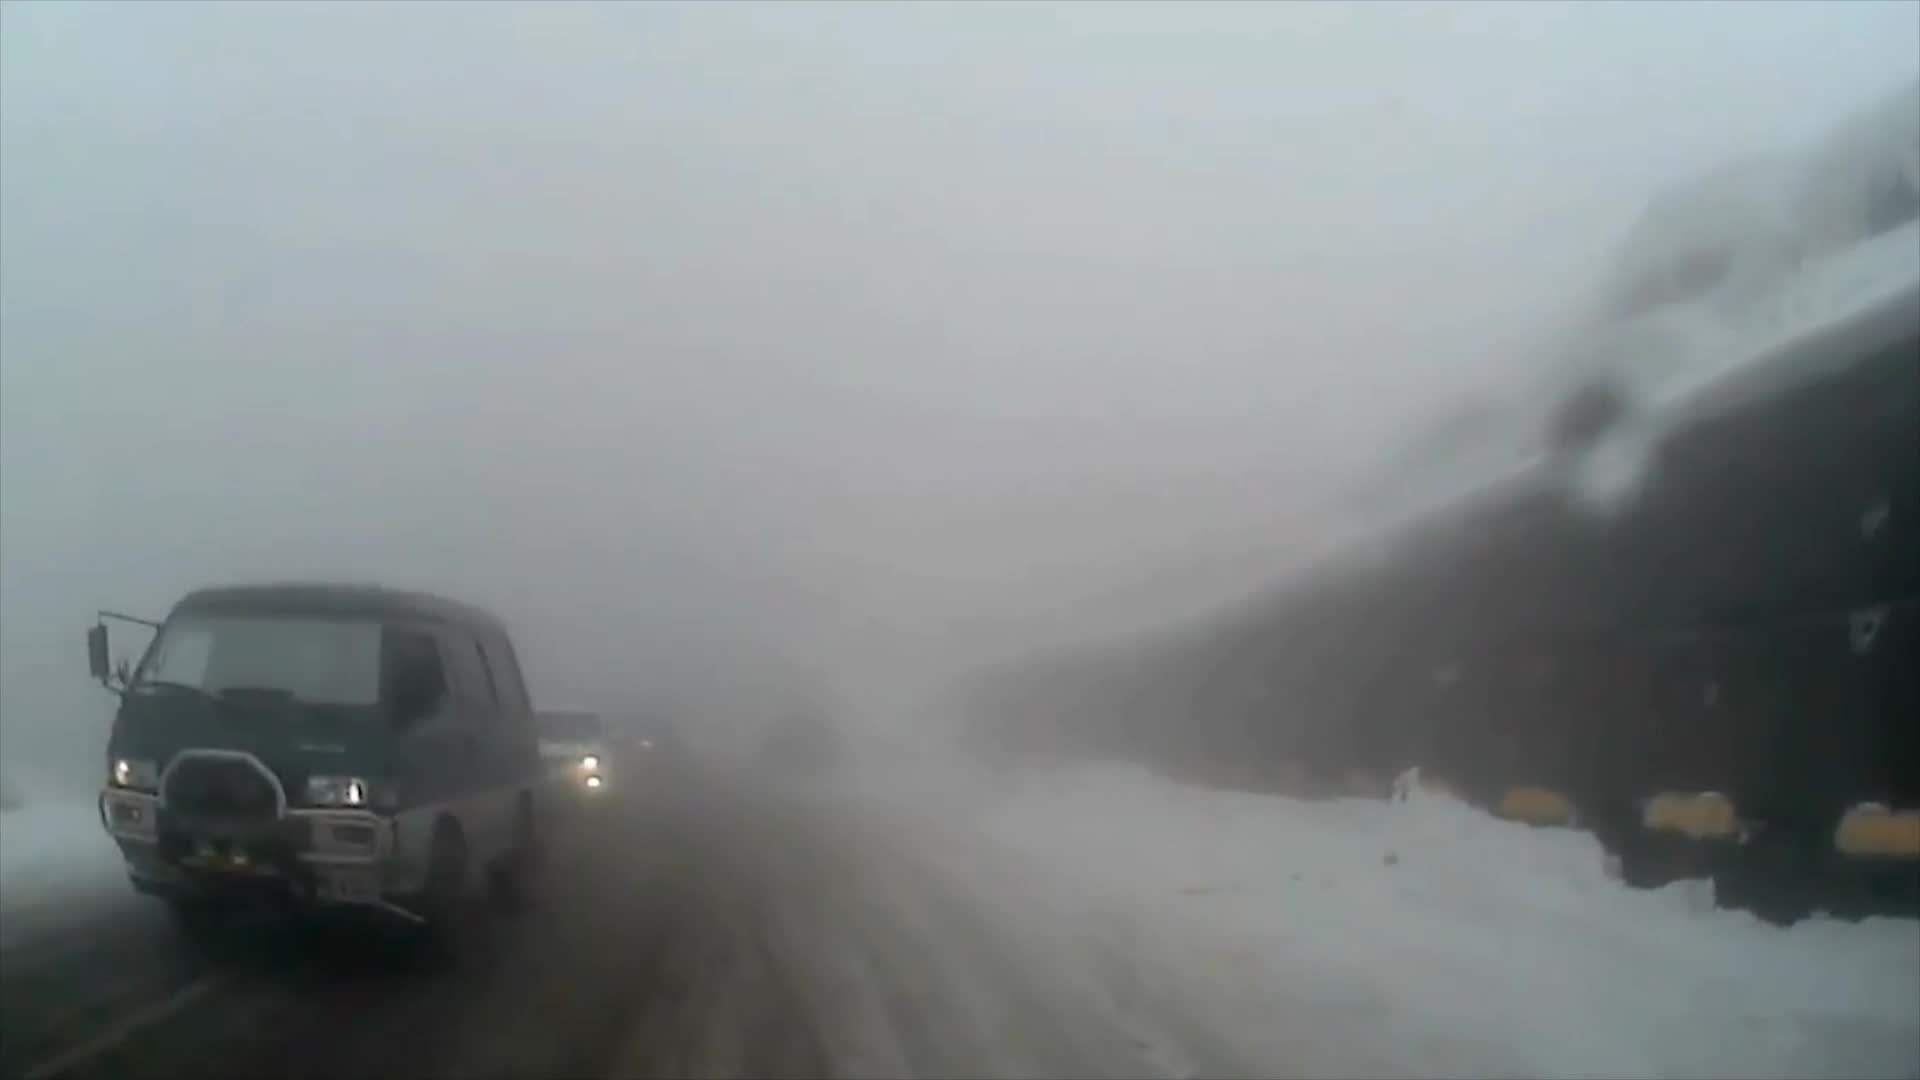vehicle: (79, 575, 541, 984), (495, 702, 620, 814)
